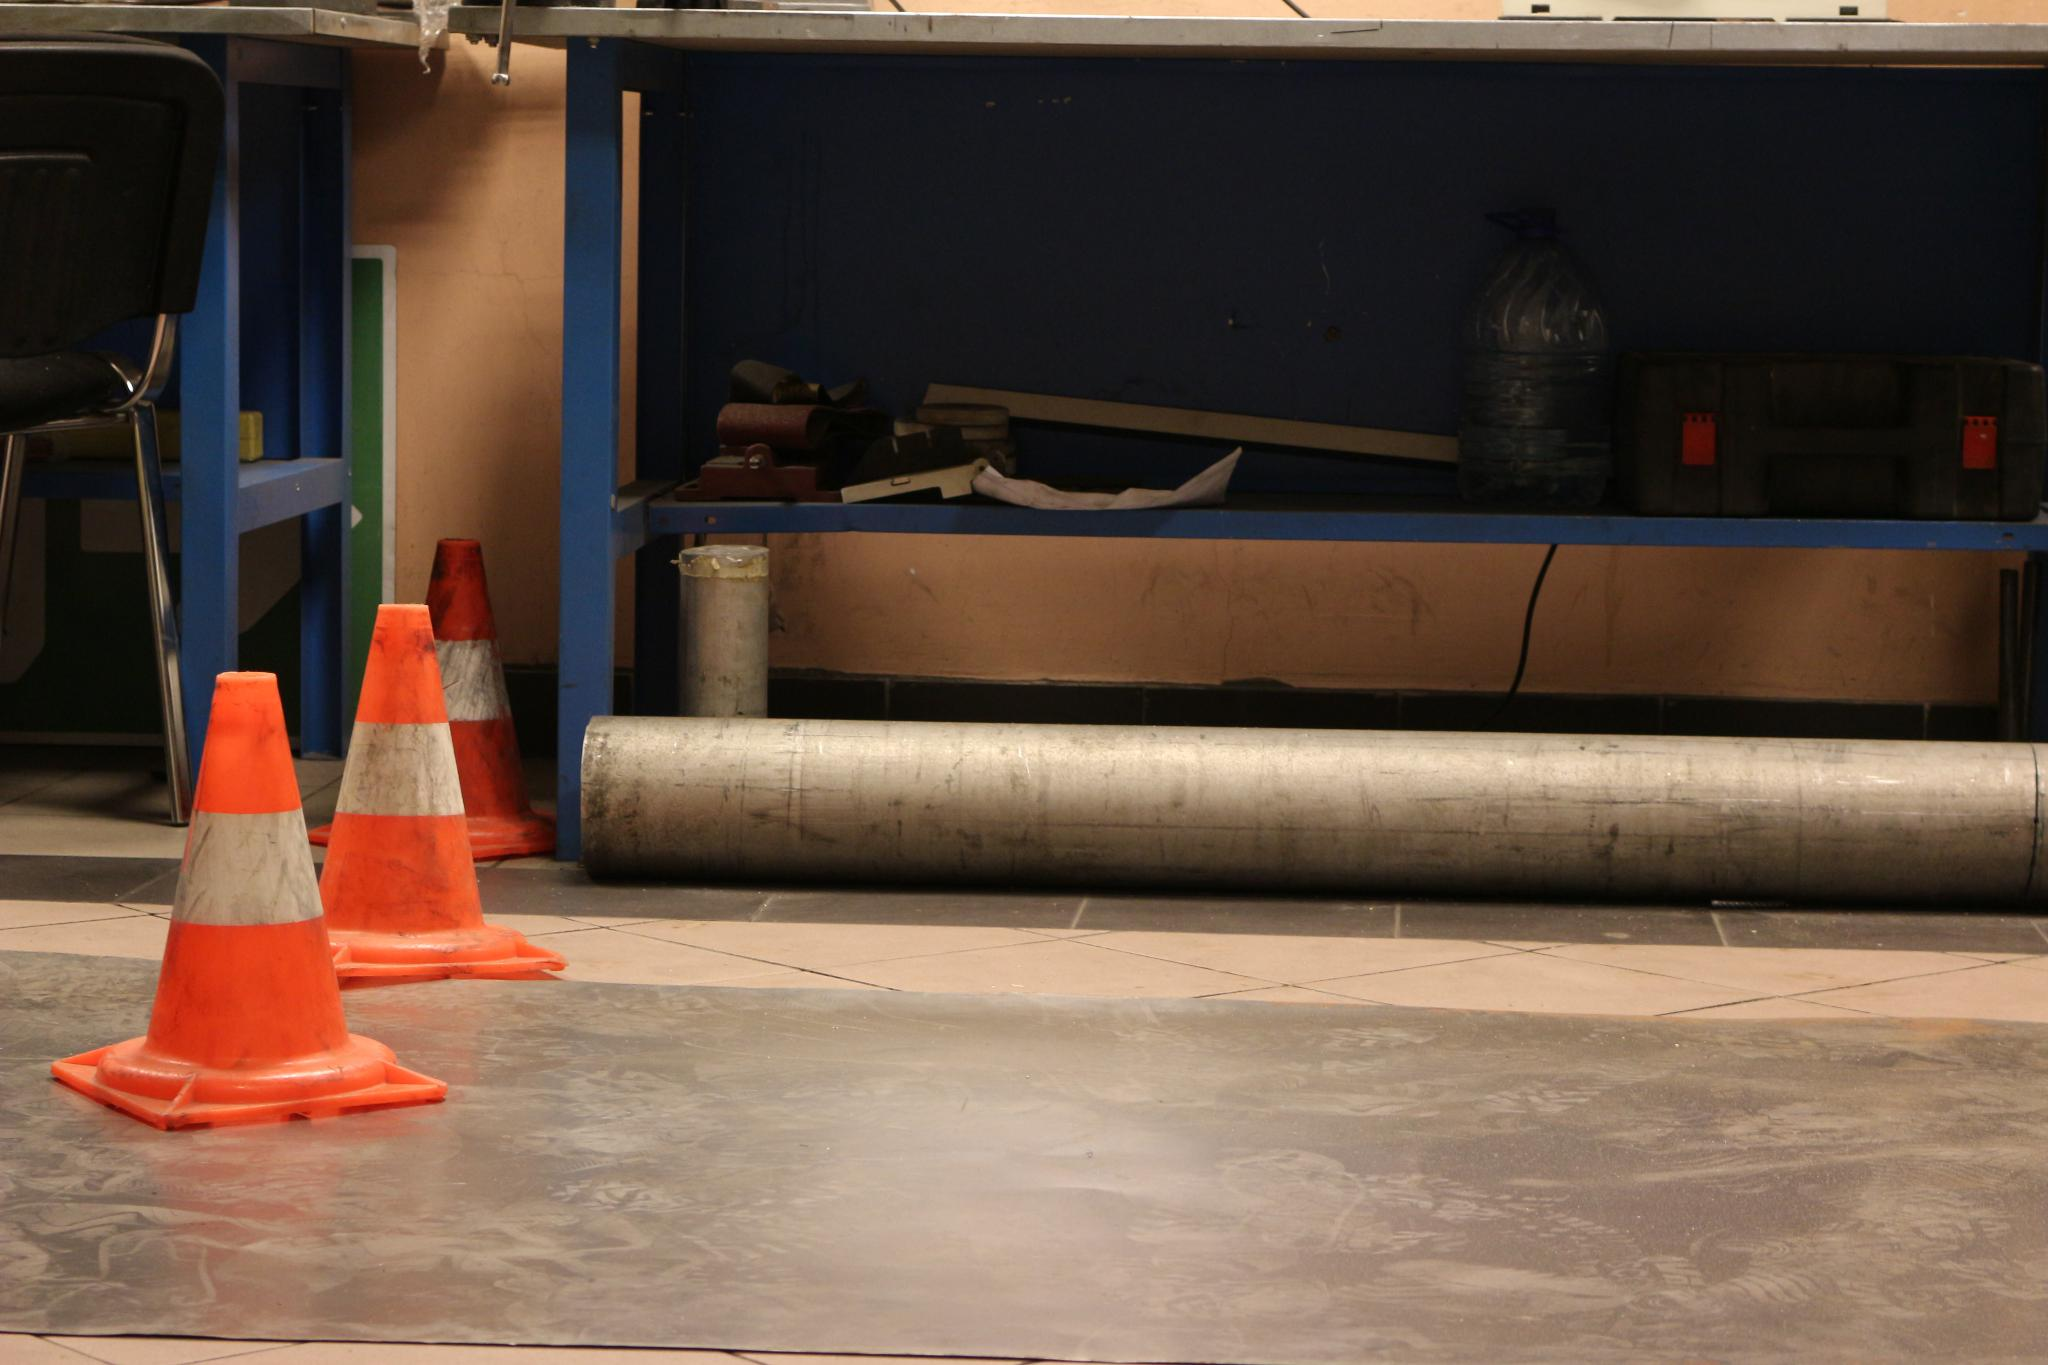Orange_Cone: (85, 661, 413, 1114), (280, 599, 548, 987), (314, 498, 573, 850)
